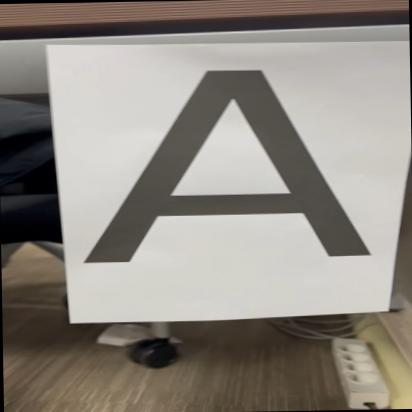seat: (77, 56, 390, 270)
